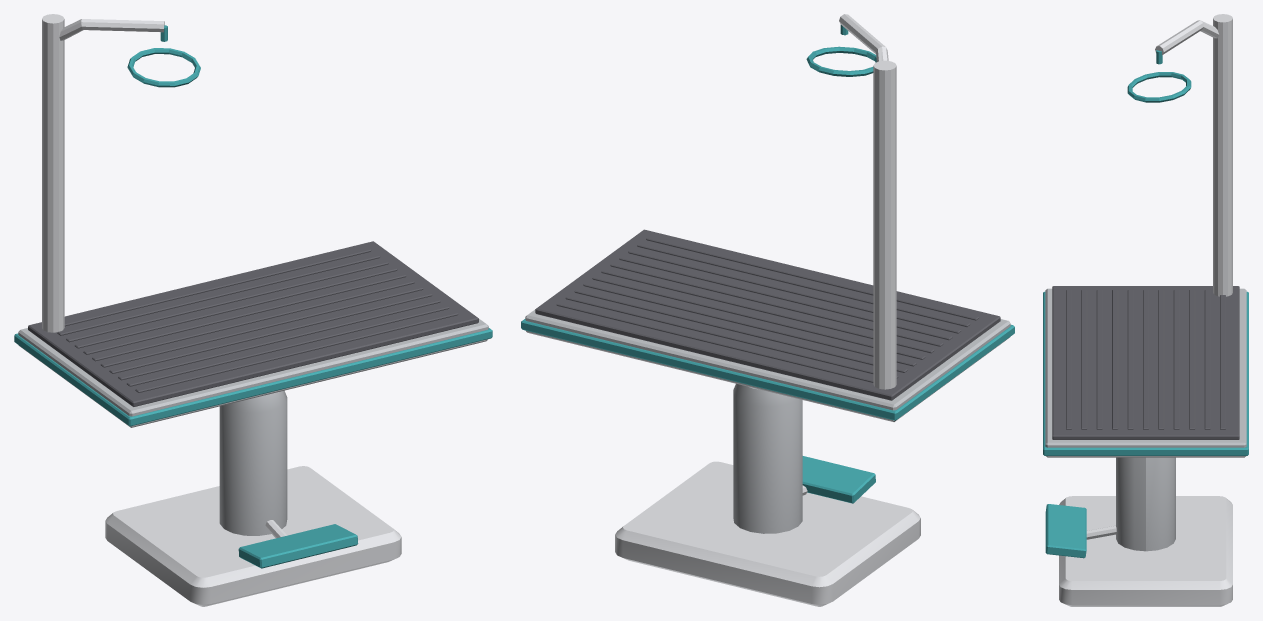
The model's file is pet-shop-and-grooming-salon-grooming-table-c57c0c75__34591.glb.
The picture shows the model from 3 angles, left to right: view 1: azimuth 30°, elevation 25°; view 2: azimuth 150°, elevation 25°; view 3: azimuth 270°, elevation 25°; orthographic projection. The views are drawn at different scales.
Parts seen in each view (by area): view 1: table-lift/dark, grooming-table, table-lift/metal, table-lift/accent, table-lift/grey; view 2: table-lift/dark, grooming-table, table-lift/metal, table-lift/grey, table-lift/accent; view 3: table-lift/dark, grooming-table, table-lift/metal, table-lift/grey, table-lift/accent.
Boxes of the visible parts, x1=… form: table-lift/dark: x1=28, y1=241, x2=478, y2=406; grooming-table: x1=105, y1=390, x2=401, y2=606; table-lift/metal: x1=42, y1=14, x2=164, y2=332; table-lift/accent: x1=14, y1=25, x2=492, y2=426; table-lift/grey: x1=18, y1=319, x2=488, y2=427; table-lift/dark: x1=535, y1=229, x2=1000, y2=400; grooming-table: x1=615, y1=383, x2=920, y2=606; table-lift/metal: x1=839, y1=14, x2=896, y2=389; table-lift/grey: x1=525, y1=309, x2=1010, y2=421; table-lift/accent: x1=521, y1=25, x2=1014, y2=420; table-lift/dark: x1=1052, y1=286, x2=1239, y2=439; grooming-table: x1=1045, y1=457, x2=1232, y2=606; table-lift/metal: x1=1155, y1=14, x2=1232, y2=296; table-lift/grey: x1=1045, y1=288, x2=1246, y2=457; table-lift/accent: x1=1043, y1=50, x2=1248, y2=455.
Size of the model in its own units: 1.11 by 1.6 by 0.6141.
